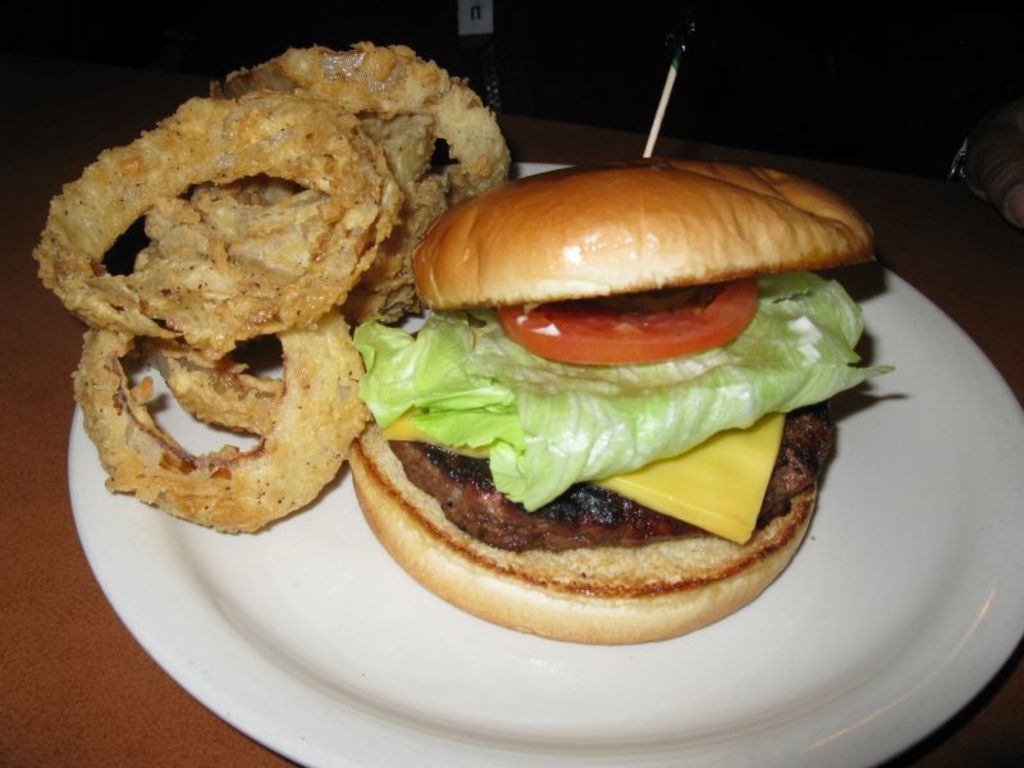Hamburger: (337, 158, 897, 645)
